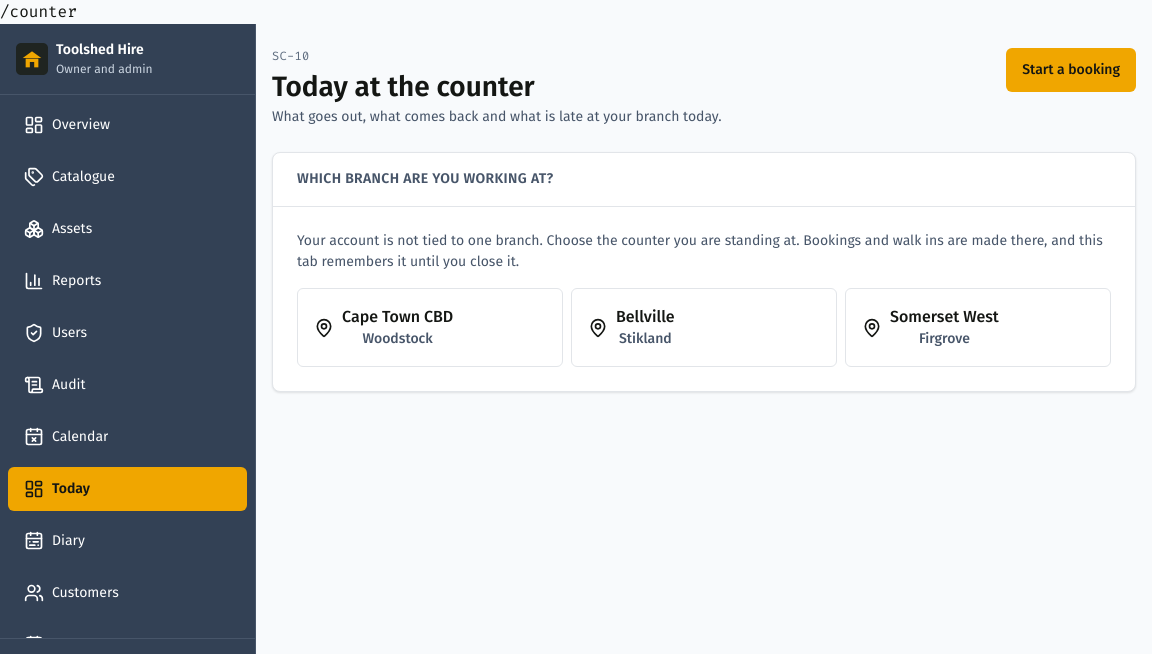
Test case: an administrator › chooses a branch first, and the figures are asked for that branch
Step 1. Click the button "Cape Town CBD Woodstock" → (430, 328), box [297, 288, 563, 367]
(page scrolled)
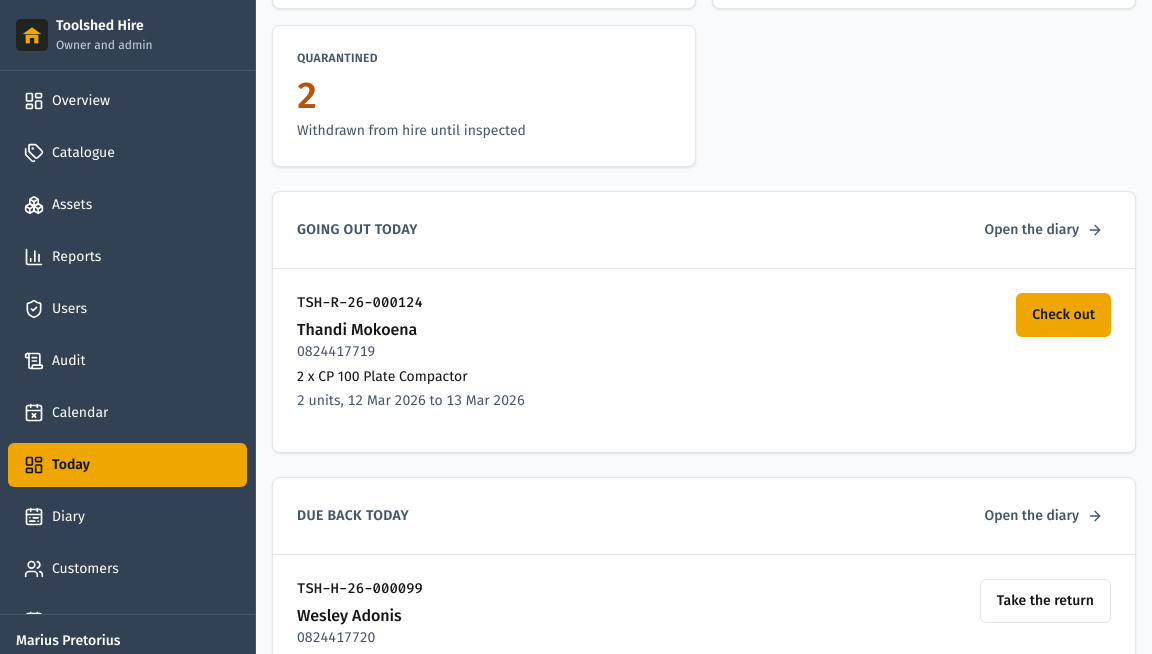
expect the list named "Collections due today" is shown: met, box [297, 293, 1111, 428]
